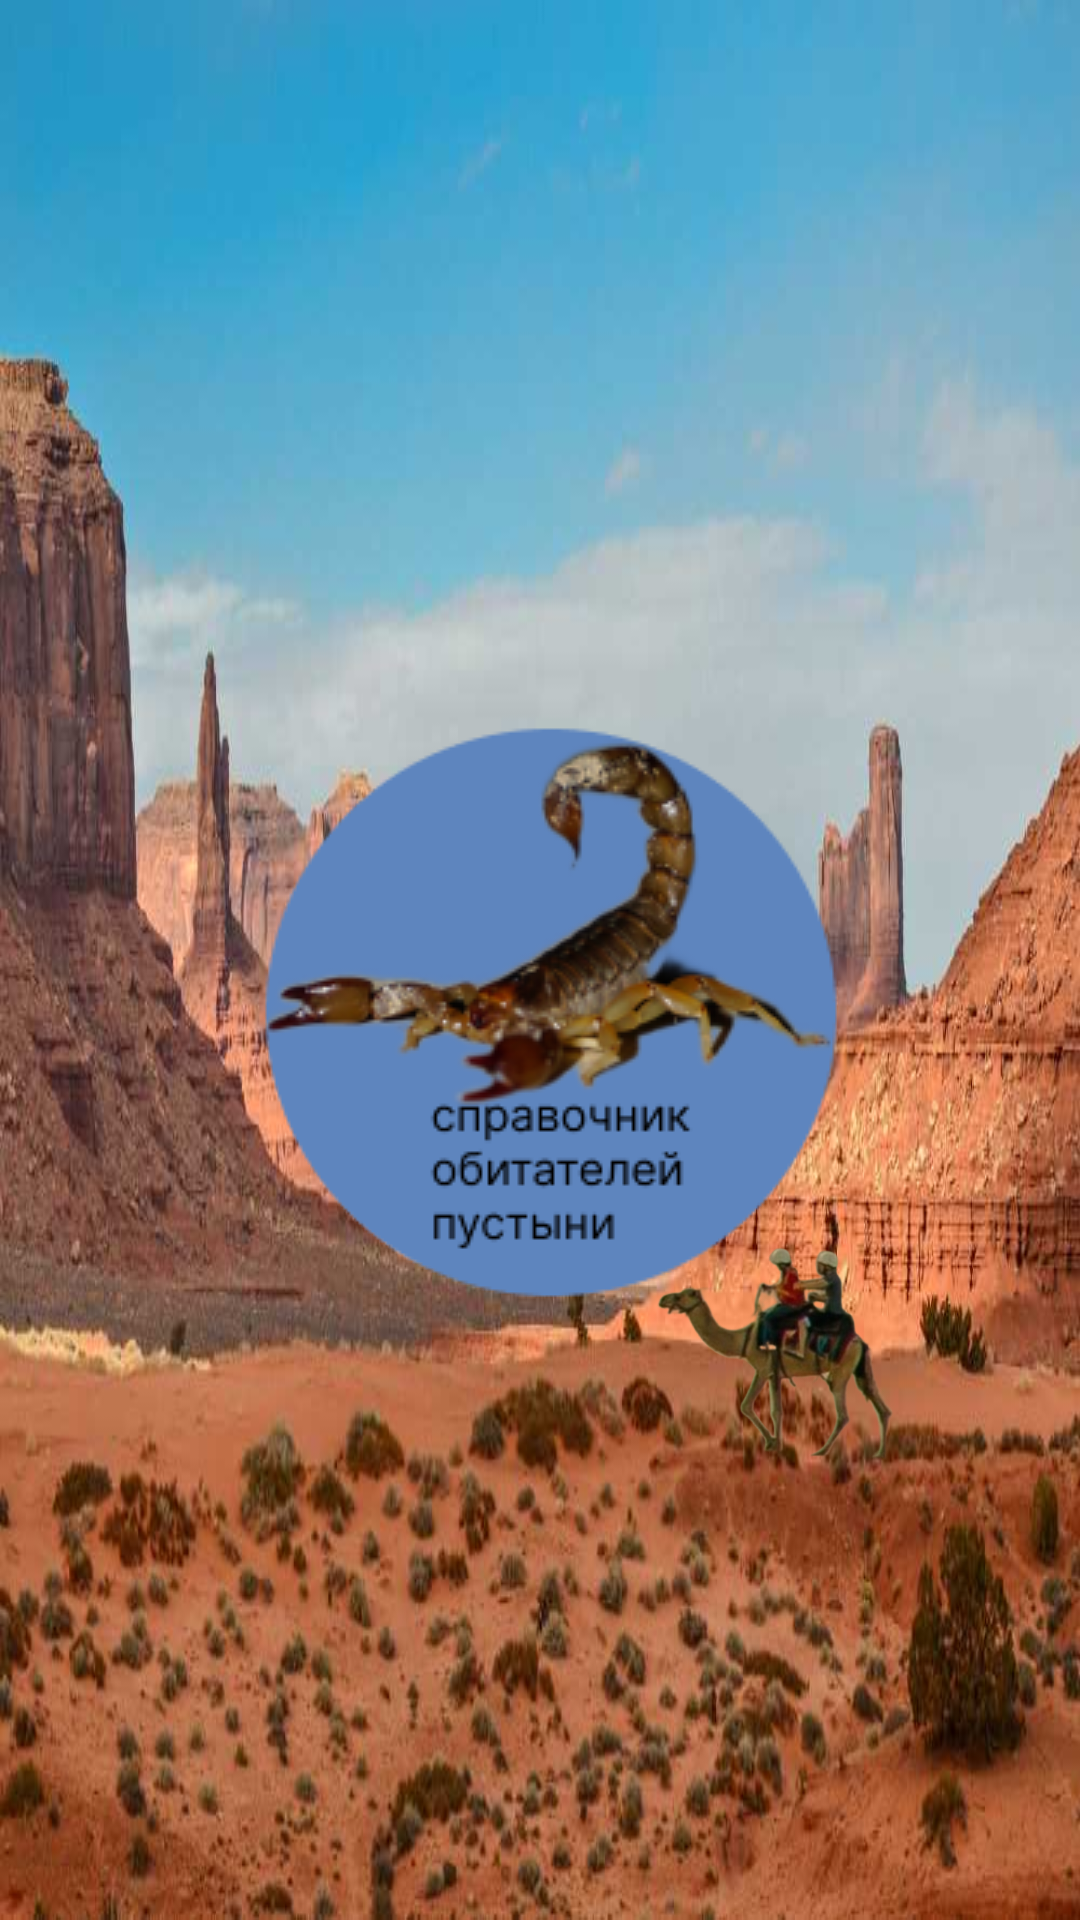

Where to tap for icons on this 1080 × 1920 app screen, as point (x, y):
camels: point (762, 1349)
